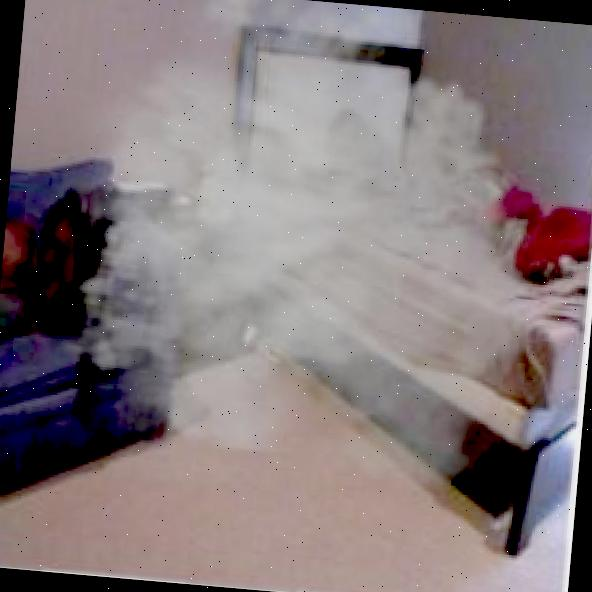smoke: (16, 0, 591, 512)
